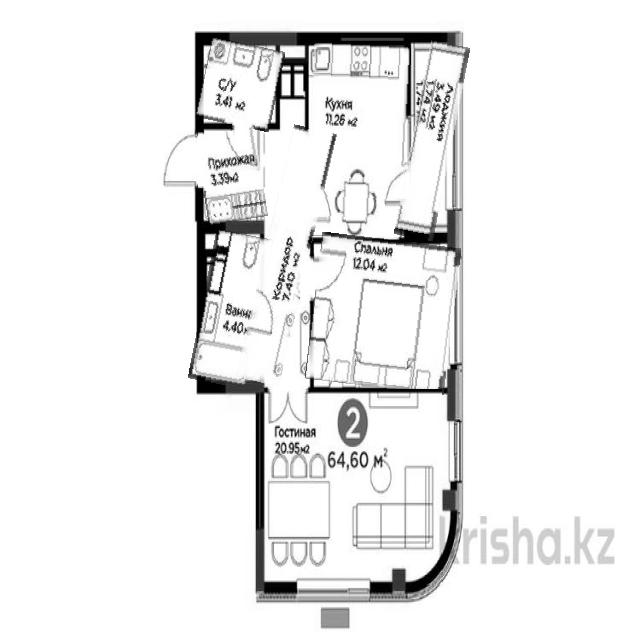balcony: (403, 41, 461, 240)
bathroom: (195, 231, 267, 387), (199, 41, 282, 129)
hallway: (251, 125, 323, 386), (199, 130, 265, 223)
kitchen: (307, 41, 408, 239)
living_room: (261, 390, 442, 586), (309, 236, 457, 392)
